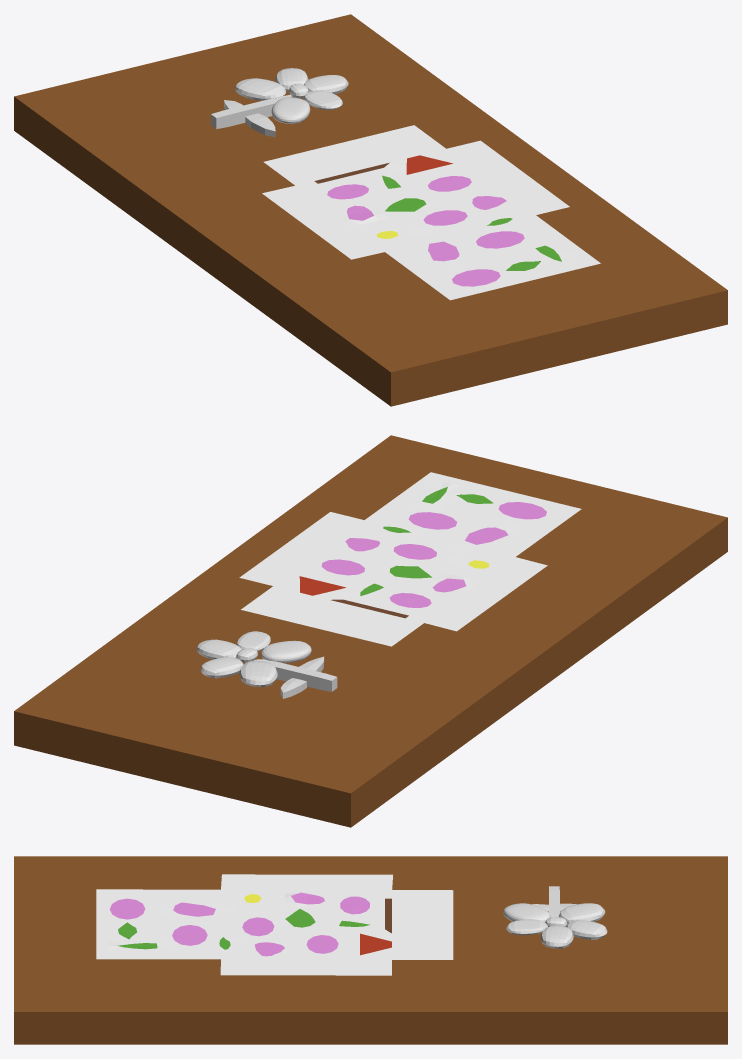
File: plastik_tipe1.fbx
The picture shows the model from 3 angles, top to bottom: view 1: azimuth 30°, elevation 25°; view 2: azimuth 150°, elevation 25°; view 3: azimuth 270°, elevation 25°; orthographic projection. The views are drawn at different scales.
Visible parts, largest first — view 1: Cube.026, Plane.013, Plane.026, Plane.032, Plane.031, Plane.047, Plane.044, Plane.028; view 2: Cube.026, Plane.013, Plane.026, Plane.031, Plane.032, Plane.027, Plane.028, Plane.044, Plane.047; view 3: Cube.026, Plane.013, Plane.032, Plane.031, Plane.028, Plane.027, Plane.047, Plane.044, Plane.029, Plane.065, Plane.039, Plane.035 (+5 smaller).
Part boxes in pixels (box(x1,y1,x2,y2)): Cube.026: box(14, 14, 727, 406); Plane.013: box(262, 125, 600, 300); Plane.026: box(211, 94, 292, 129); Plane.032: box(235, 78, 285, 100); Plane.031: box(271, 97, 310, 123); Plane.047: box(452, 269, 500, 286); Plane.044: box(476, 231, 524, 248); Plane.028: box(304, 75, 348, 94); Cube.026: box(14, 435, 727, 827); Plane.013: box(239, 472, 581, 646); Plane.026: box(253, 659, 337, 691); Plane.031: box(261, 640, 311, 663); Plane.032: box(239, 660, 277, 687); Plane.027: box(200, 657, 243, 678); Plane.028: box(196, 639, 241, 659); Plane.044: box(408, 512, 456, 529); Plane.047: box(498, 502, 546, 519); Cube.026: box(14, 856, 727, 1044); Plane.013: box(96, 874, 453, 975); Plane.032: box(558, 903, 605, 924); Plane.031: box(503, 903, 550, 921); Plane.028: box(540, 925, 573, 948); Plane.027: box(566, 920, 607, 939); Plane.047: box(109, 898, 145, 919); Plane.044: box(172, 925, 207, 945); Plane.029: box(506, 919, 547, 935); Plane.065: box(306, 935, 338, 953); Plane.039: box(242, 917, 274, 936); Plane.035: box(360, 933, 391, 955).
Size of the model in its own units: 159 by 28.55 by 308.
